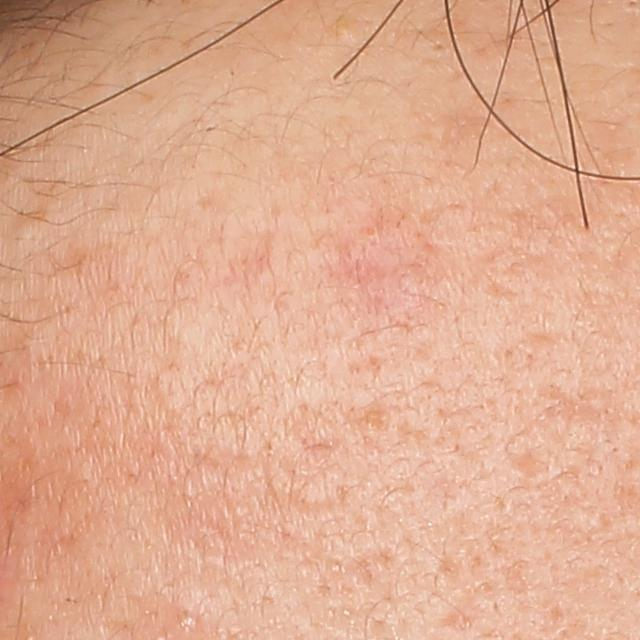comedo: (7, 212, 46, 245), (331, 17, 354, 41), (172, 612, 194, 634), (362, 223, 379, 239)
